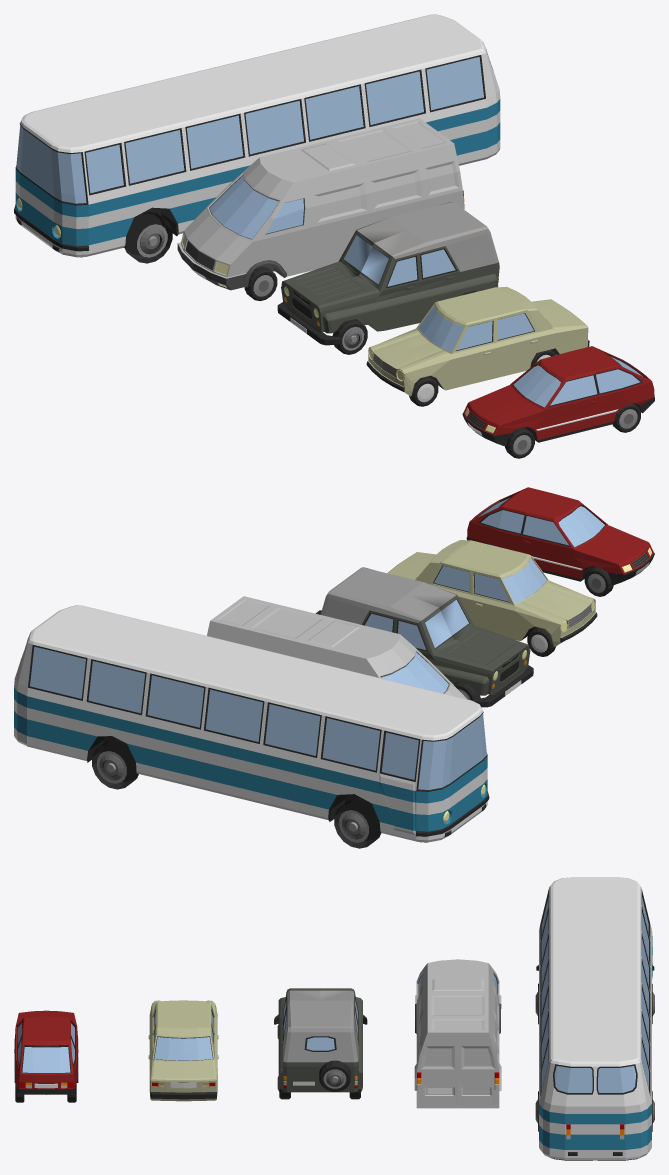
The model's file is soviet.glb.
The picture shows the model from 3 angles, top to bottom: view 1: azimuth 30°, elevation 25°; view 2: azimuth 150°, elevation 25°; view 3: azimuth 270°, elevation 25°; orthographic projection. The views are drawn at different scales.
Visible parts, largest first — view 1: Liaz_677_Bus, Gazelle_Cargo, Uaz469, Vaz2101, Tavria; view 2: Liaz_677_Bus, Uaz469, Vaz2101, Tavria, Gazelle_Cargo; view 3: Liaz_677_Bus, Gazelle_Cargo, Uaz469, Vaz2101, Tavria.
Part boxes in pixels (box(x1,y1,x2,y2)): Liaz_677_Bus: box(14, 14, 500, 263); Gazelle_Cargo: box(177, 118, 464, 300); Uaz469: box(277, 202, 499, 354); Vaz2101: box(366, 286, 589, 406); Tavria: box(462, 346, 654, 458); Liaz_677_Bus: box(14, 605, 489, 848); Uaz469: box(316, 567, 533, 707); Vaz2101: box(387, 540, 597, 656); Tavria: box(466, 487, 654, 596); Gazelle_Cargo: box(207, 596, 466, 699); Liaz_677_Bus: box(535, 877, 654, 1160); Gazelle_Cargo: box(414, 959, 501, 1108); Uaz469: box(274, 988, 367, 1099); Vaz2101: box(148, 1000, 218, 1101); Tavria: box(14, 1010, 78, 1102).
Bounding box in the file's own units: 9.96 × 2.7 × 14.01.
